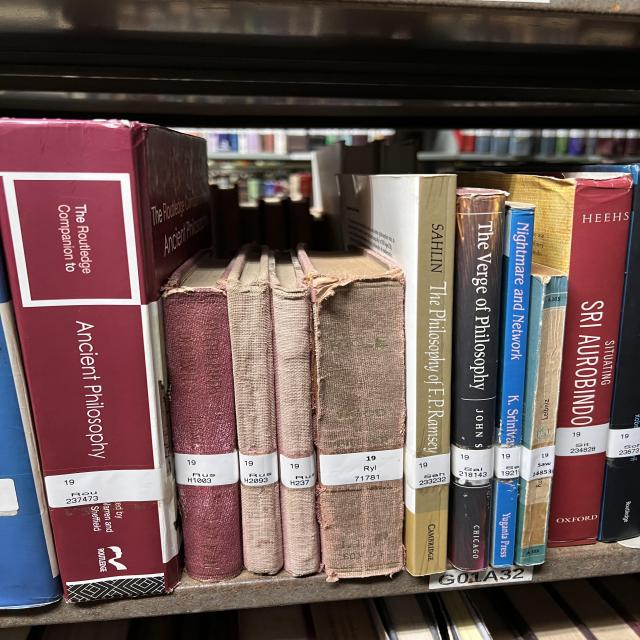Book: (0, 120, 210, 602), (340, 174, 457, 576), (298, 250, 405, 581), (548, 175, 632, 546), (163, 250, 243, 581), (448, 188, 508, 571), (587, 165, 640, 542), (227, 245, 283, 575), (490, 201, 535, 568), (270, 251, 320, 576), (515, 264, 568, 565)
Label: (45, 469, 165, 508), (318, 449, 403, 486), (175, 450, 238, 486), (405, 451, 450, 489), (555, 424, 608, 456), (452, 444, 493, 480), (238, 451, 278, 486), (520, 445, 555, 481), (280, 455, 315, 489), (607, 428, 640, 458), (493, 445, 522, 479)
